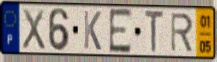6: (47, 6, 72, 53)
E: (108, 8, 134, 55)
K: (82, 9, 103, 52)
R: (169, 11, 194, 54)
T: (143, 9, 165, 56)
X: (21, 7, 47, 52)
